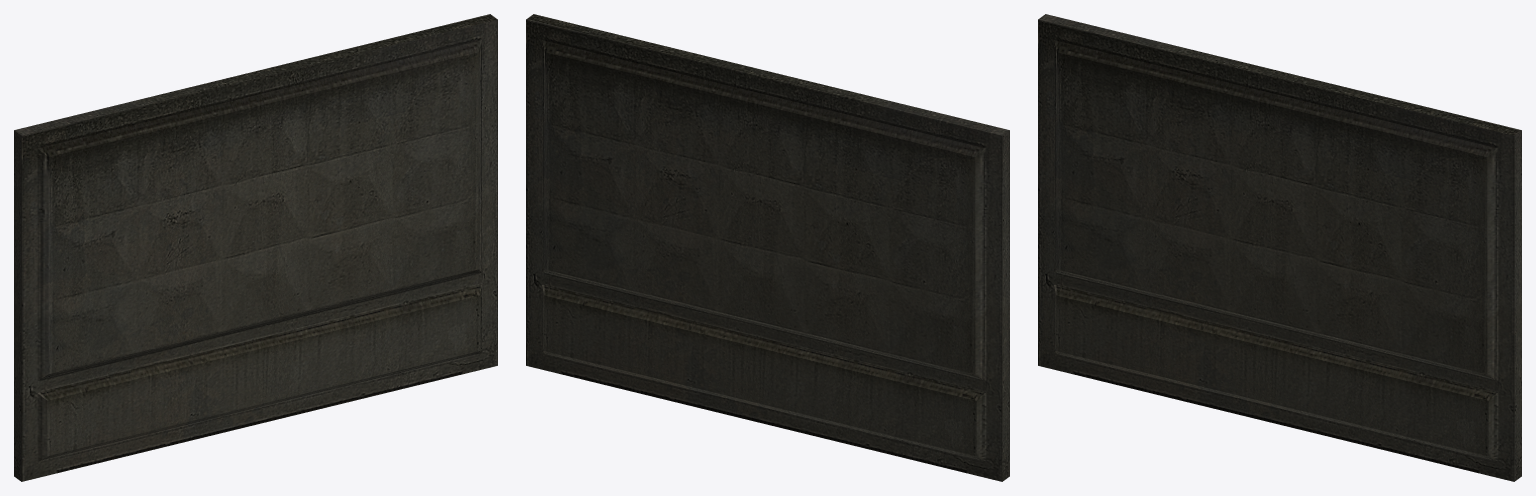
The model's file is concrete_fence_hr_1.fbx.
The picture shows the model from 3 angles, left to right: view 1: azimuth 30°, elevation 25°; view 2: azimuth 150°, elevation 25°; view 3: azimuth 330°, elevation 25°; orthographic projection.
Parts seen in each view (by area): view 1: concrete_fence_hr_1; view 2: concrete_fence_hr_1; view 3: concrete_fence_hr_1.
Part boxes in pixels (x1,y1,x2,y2): concrete_fence_hr_1: (14, 14, 497, 481); concrete_fence_hr_1: (526, 14, 1009, 481); concrete_fence_hr_1: (1038, 14, 1521, 481).
Size of the model in its own units: 3.6 by 0.2 by 2.5.
